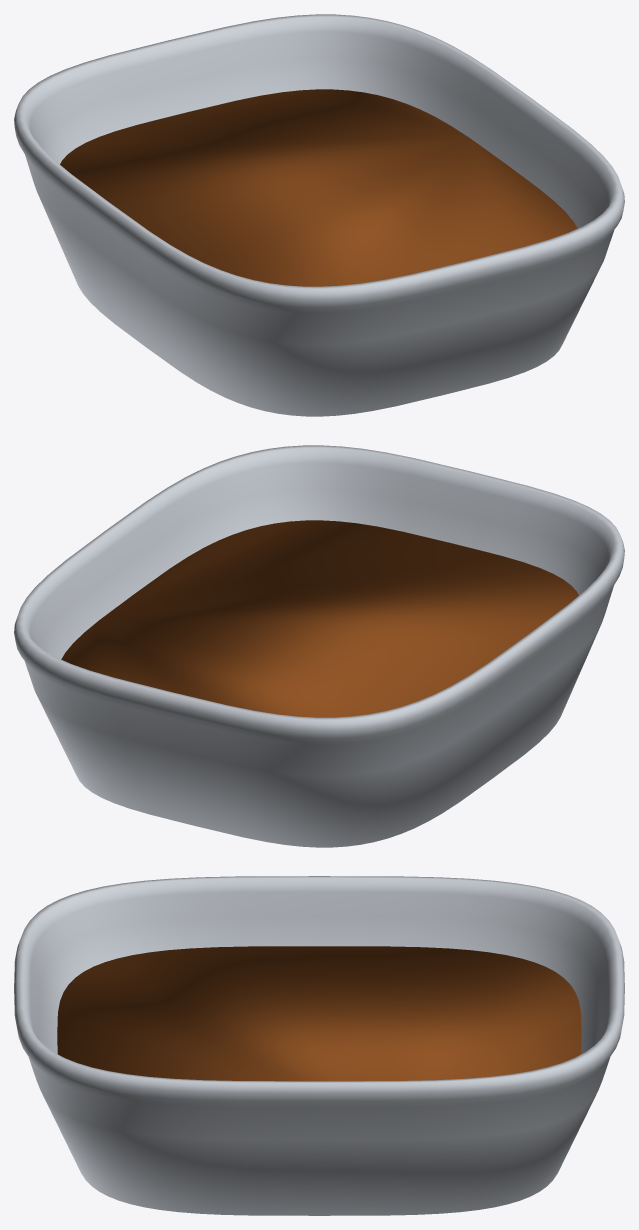
File: iodine_dish.glb
The picture shows the model from 3 angles, top to bottom: view 1: azimuth 30°, elevation 25°; view 2: azimuth 150°, elevation 25°; view 3: azimuth 270°, elevation 25°; orthographic projection.
Parts seen in each view (by area): view 1: Dish, Liquid; view 2: Dish, Liquid; view 3: Dish, Liquid.
Boxes of the visible parts, x1=… form: Dish: x1=14, y1=14, x2=624, y2=416; Liquid: x1=60, y1=89, x2=577, y2=286; Dish: x1=14, y1=445, x2=624, y2=847; Liquid: x1=61, y1=520, x2=578, y2=717; Dish: x1=14, y1=876, x2=624, y2=1215; Liquid: x1=57, y1=946, x2=581, y2=1081.
Bounding box in the file's own units: 0.0799 × 0.028 × 0.0984.
